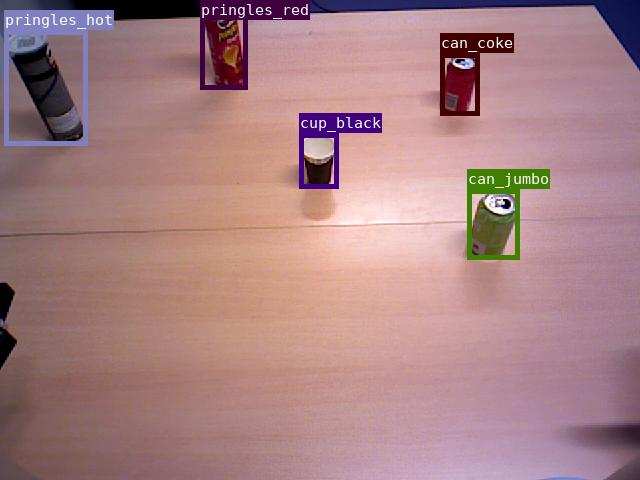can_coke: (440, 53, 479, 115)
can_jumbo: (467, 189, 519, 259)
cup_black: (299, 133, 338, 188)
pringles_hot: (4, 30, 87, 145)
pringles_red: (200, 0, 247, 89)
